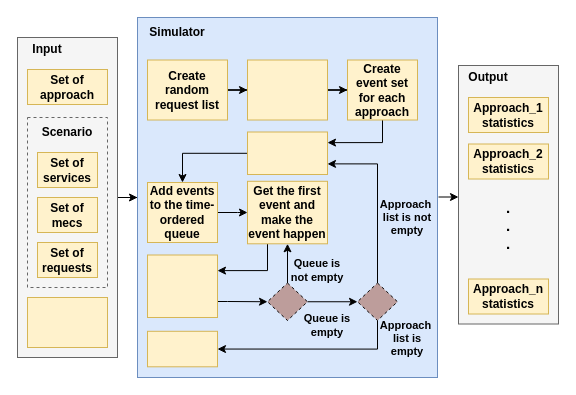
Some shapes in this 576 by 395 pixel diagram are drawn without their labels. Here are the shapes that lost their labels. From the top down, the centre of each, then its label:
At point (287, 89): "Copy set of requests for each approach".
At point (287, 152): "Get one approach in list".
At point (182, 286): "Add new events (if any) to the queue".
At point (67, 322): "Request creation inverval".
At point (182, 348): "End of simulation".
